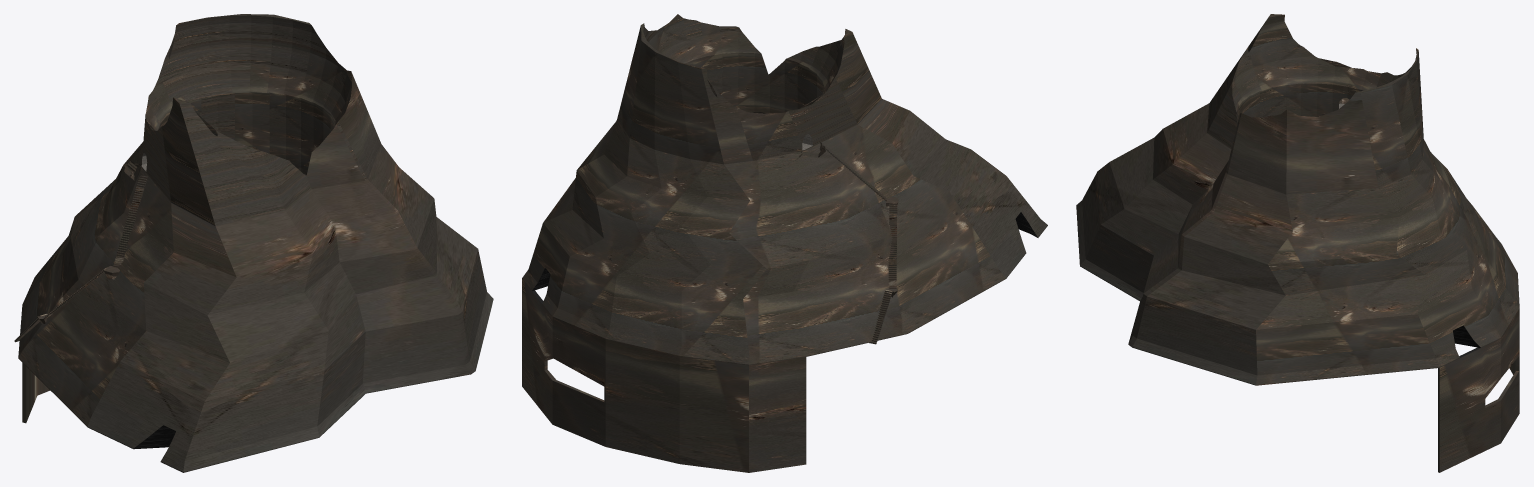
File: Volcano.glb
The picture shows the model from 3 angles, left to right: view 1: azimuth 30°, elevation 25°; view 2: azimuth 150°, elevation 25°; view 3: azimuth 270°, elevation 25°; orthographic projection. The views are drawn at different scales.
Visible parts, largest first — view 1: Volcano Body, Stairs; view 2: Volcano Body, Stairs; view 3: Volcano Body.
Part boxes in pixels (x1,y1,x2,y2): Volcano Body: (18,14,493,472); Stairs: (14,175,147,342); Volcano Body: (522,14,1047,472); Stairs: (821,143,897,344); Volcano Body: (1076,14,1519,472).
Bounding box in the file's own units: 178 × 149 × 175.
8 materials, 4 textured.
